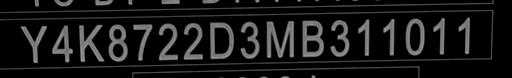letter: (264, 18, 296, 58), (76, 22, 106, 62), (18, 23, 48, 63), (208, 19, 236, 60), (299, 17, 325, 57), (49, 23, 75, 62), (327, 17, 351, 57), (106, 22, 130, 62), (156, 21, 180, 60), (238, 20, 262, 58), (130, 21, 152, 62), (404, 14, 426, 54), (182, 20, 204, 59), (355, 17, 373, 58), (380, 16, 398, 56), (456, 15, 472, 56), (430, 15, 446, 55)
